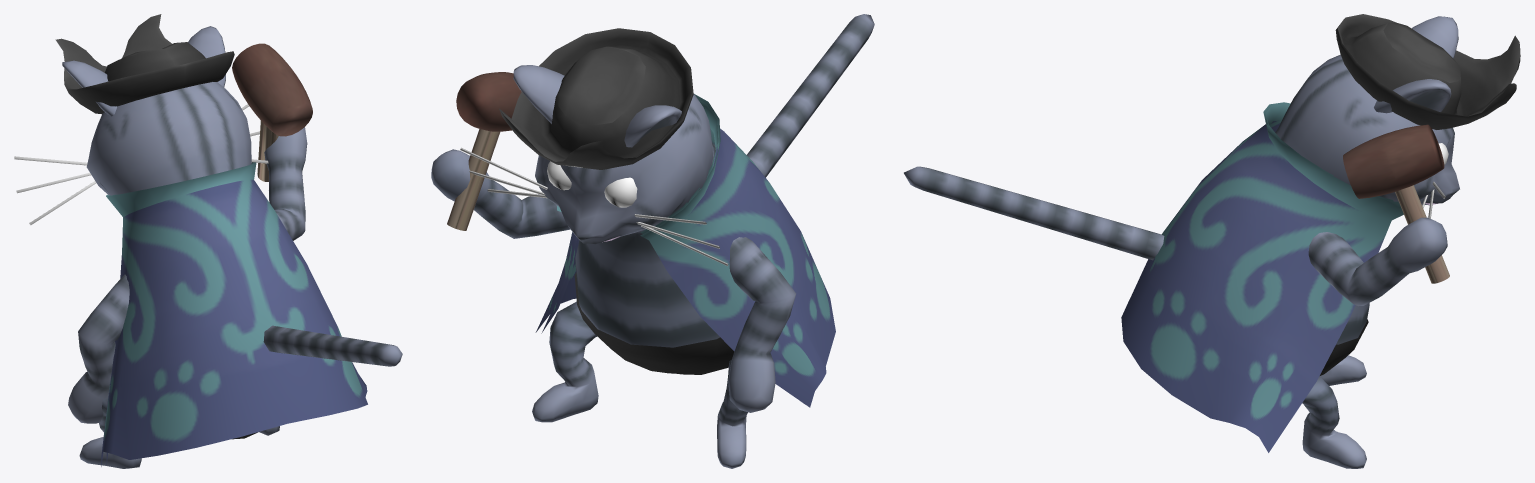
Rendered from neko_fix_07.fbx.
3 views of the same model, side by side, from view 1: azimuth 30°, elevation 25°; view 2: azimuth 150°, elevation 25°; view 3: azimuth 270°, elevation 25° (orthographic). The views are drawn at different scales.
Visible parts, largest first — view 1: F_07; view 2: F_07; view 3: F_07.
Boxes of the visible parts, left/top/right/bottom form: F_07: left=14, top=14, right=402, bottom=468; F_07: left=431, top=14, right=874, bottom=468; F_07: left=904, top=14, right=1520, bottom=468.
Size of the model in its own units: 1.17 by 1.5 by 2.14.
1 material, 1 textured.
